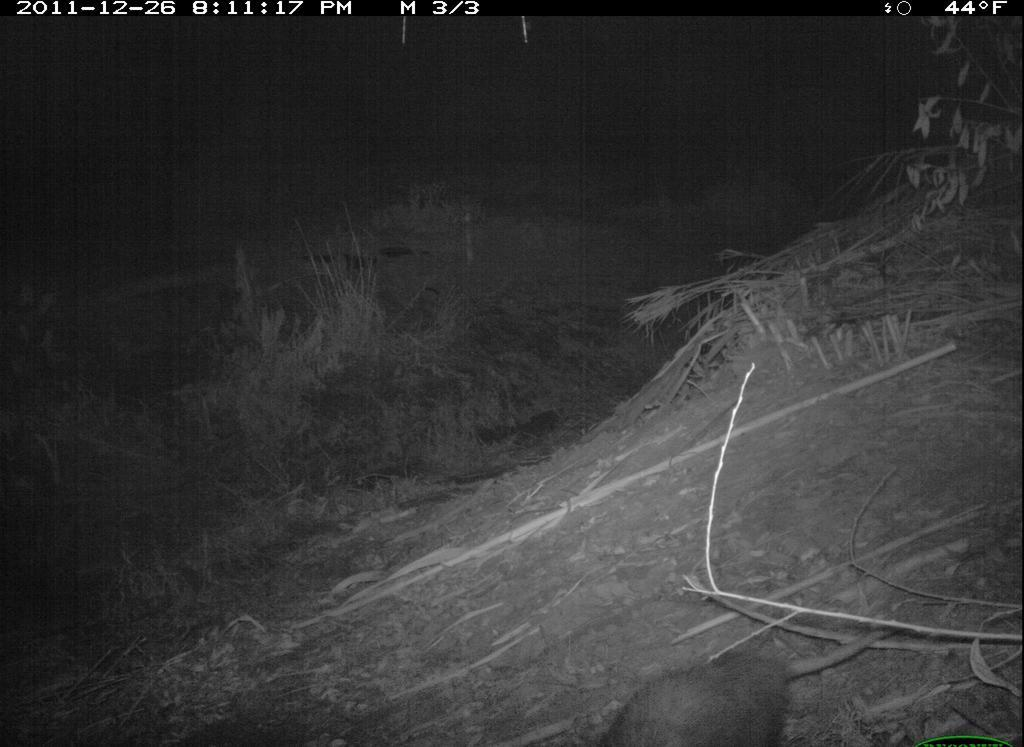opossum: (577, 592, 922, 747)
